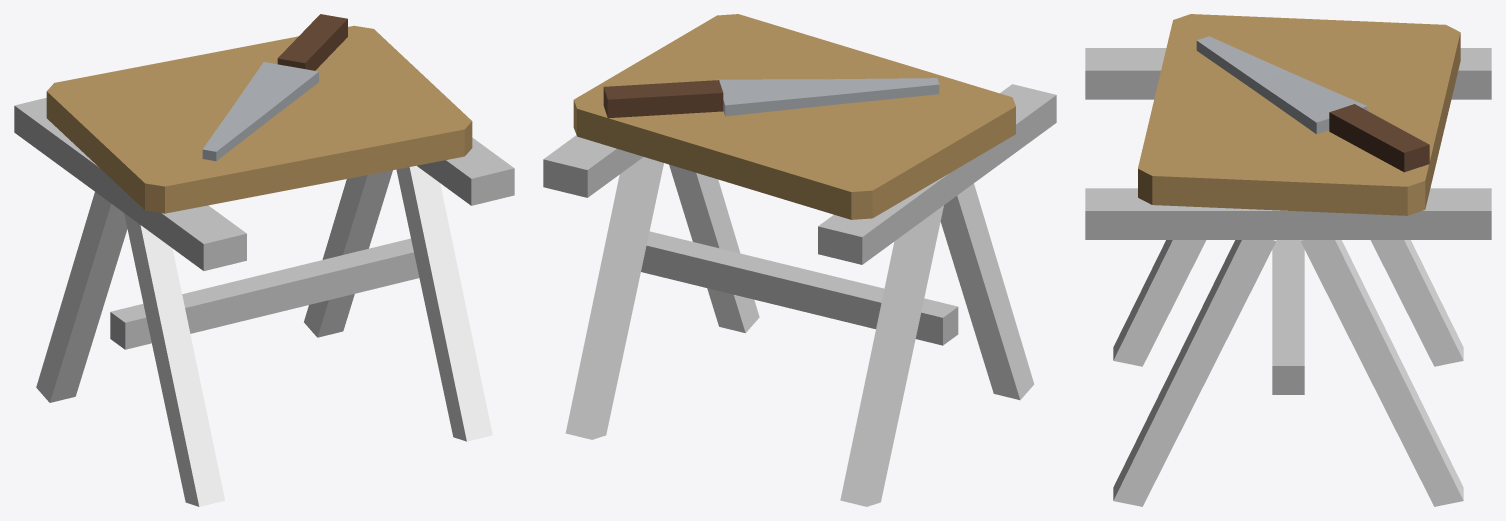
Rendered from vfem2_carving_board.obj.
The picture shows the model from 3 angles, left to right: view 1: azimuth 30°, elevation 25°; view 2: azimuth 150°, elevation 25°; view 3: azimuth 270°, elevation 25°; orthographic projection. The views are drawn at different scales.
Parts seen in each view (by area): view 1: vfem2_carving_board; view 2: vfem2_carving_board; view 3: vfem2_carving_board.
Boxes of the visible parts, <box> form: vfem2_carving_board: <box>14,14,514,506</box>; vfem2_carving_board: <box>543,14,1056,506</box>; vfem2_carving_board: <box>1085,14,1491,506</box>.
Bounding box in the file's own units: 0.7643 × 0.72 × 0.76.
